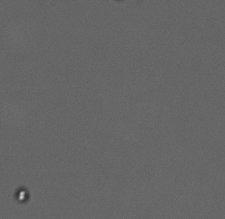Living Cell: (13, 187, 30, 203)
